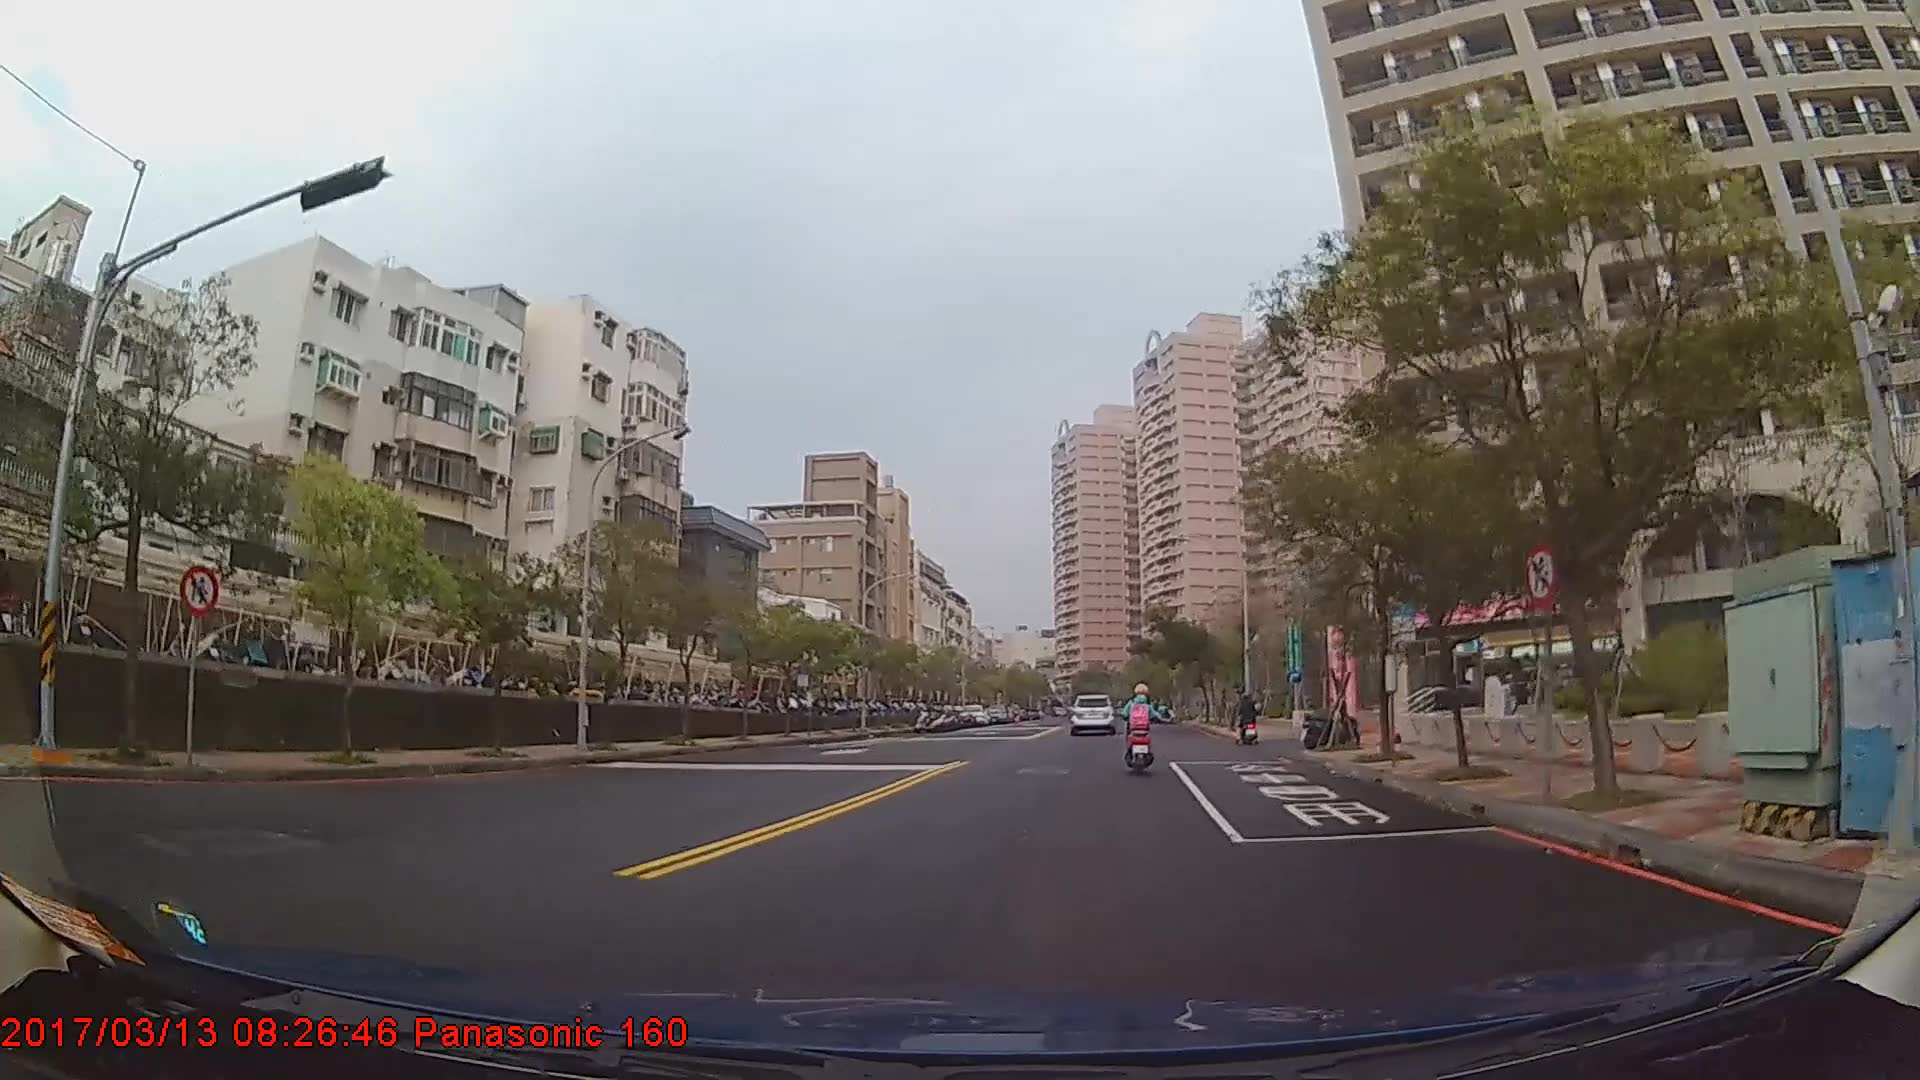rider: (1119, 681, 1166, 766), (1237, 690, 1257, 744)
vehicle: (1067, 693, 1115, 736)
